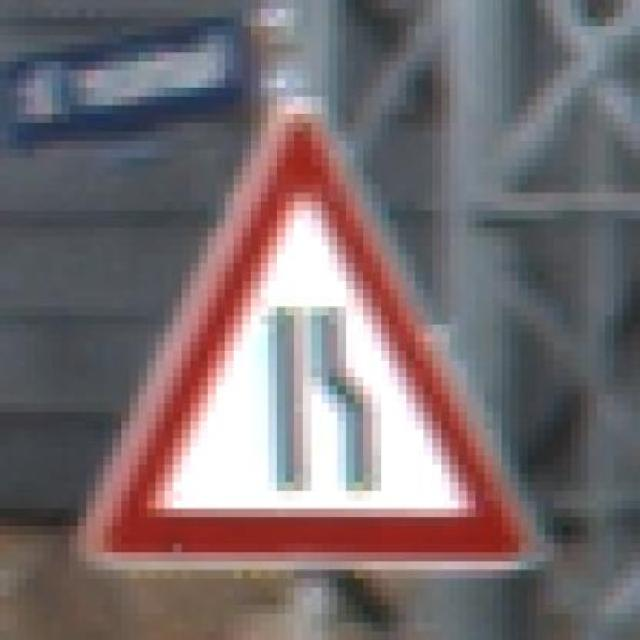-Road narrows on right: (61, 87, 545, 596)
